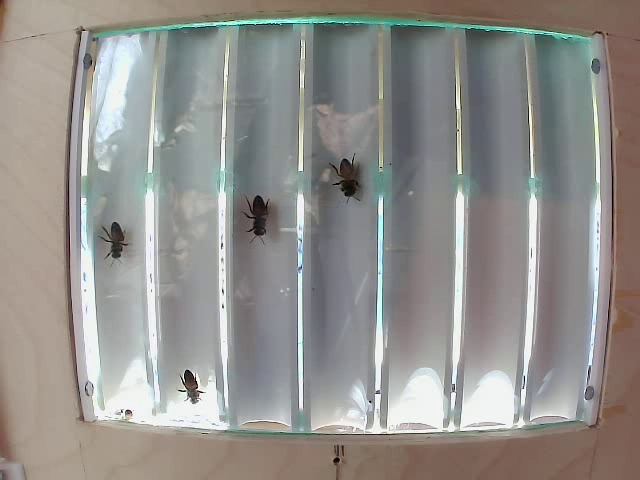bee: (226, 177, 277, 240), (326, 147, 368, 207), (171, 362, 221, 408), (96, 208, 136, 263)
